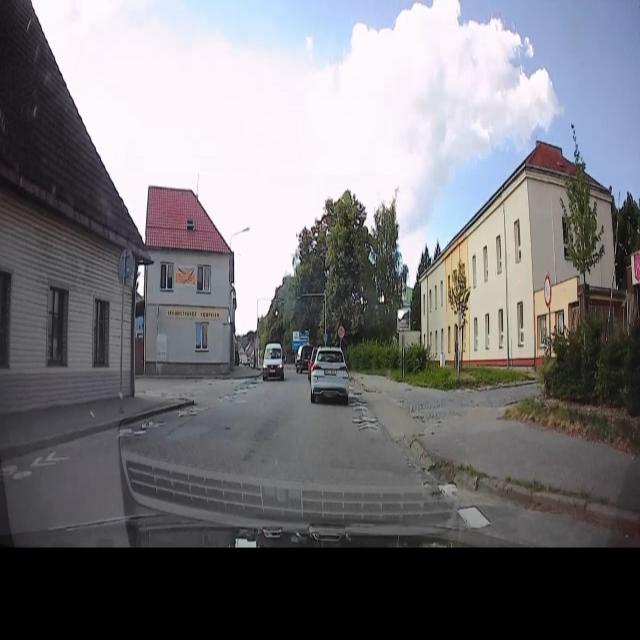Pedestrian crosswalk: (323, 332, 329, 345)
